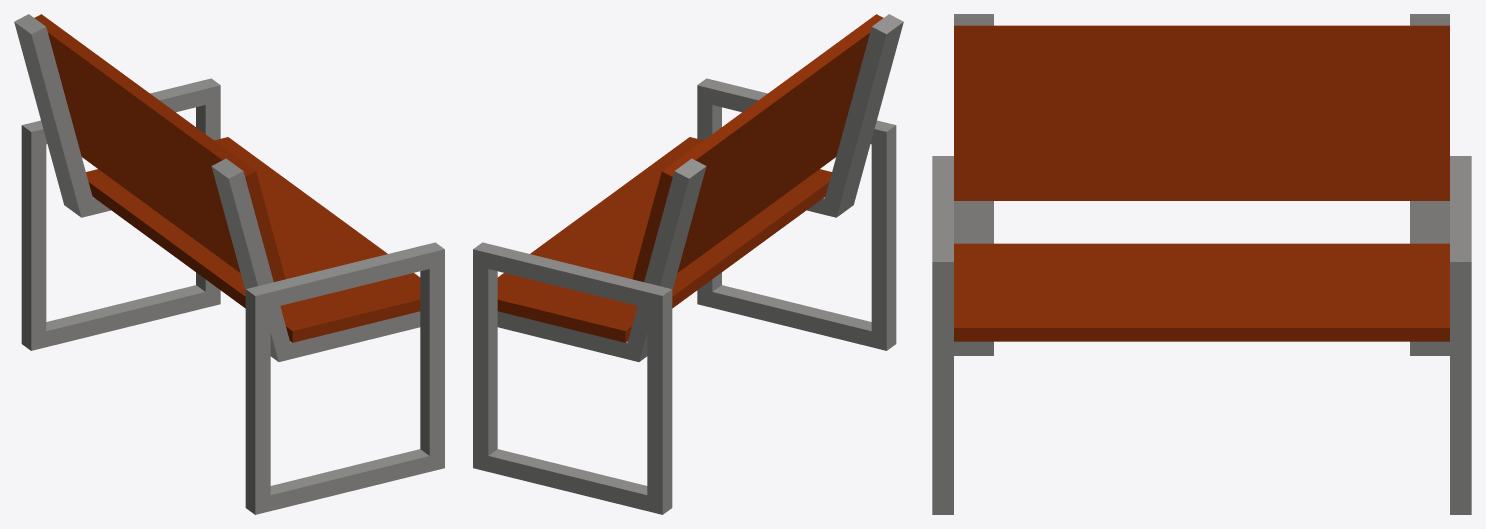
File: Playground_bench.fbx
3 renders of one model, left to right at view 1: azimuth 30°, elevation 25°; view 2: azimuth 150°, elevation 25°; view 3: azimuth 270°, elevation 25°, orthographic. The views are drawn at different scales.
Parts seen in each view (by area): view 1: Playground_bench; view 2: Playground_bench; view 3: Playground_bench.
Boxes of the visible parts, box(x1,y1,x2,y2) form: Playground_bench: box(14, 14, 444, 514); Playground_bench: box(473, 14, 903, 514); Playground_bench: box(932, 14, 1471, 514).
Bounding box in the file's own units: 60.54 × 91.19 × 114.
